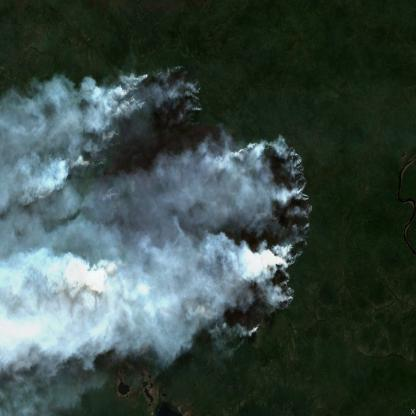fire: (86, 58, 320, 340)
